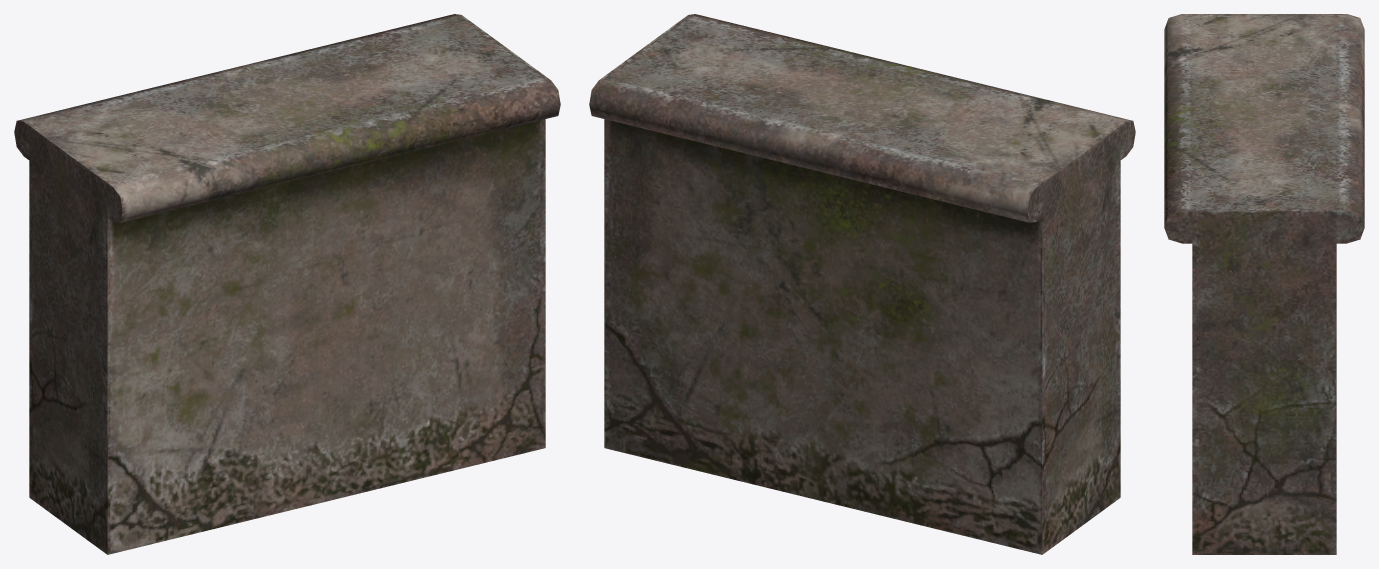
The model's file is SM_Curb_05.fbx.
3 renders of one model, left to right at view 1: azimuth 30°, elevation 25°; view 2: azimuth 150°, elevation 25°; view 3: azimuth 270°, elevation 25°, orthographic. The views are drawn at different scales.
Parts seen in each view (by area): view 1: SM_curb_05; view 2: SM_curb_05; view 3: SM_curb_05.
Boxes of the visible parts, x1,y1,x2,y2 form: SM_curb_05: (14, 14, 560, 554); SM_curb_05: (589, 14, 1135, 554); SM_curb_05: (1164, 14, 1364, 554).
Bounding box in the file's own units: 51.15 × 41.5 × 21.96.
